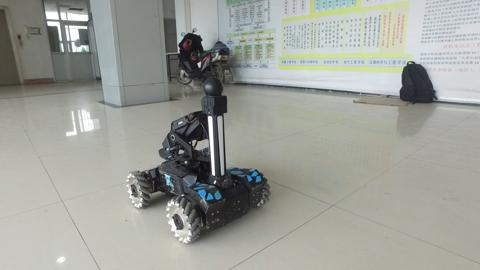bag: (392, 57, 443, 105)
chariot: (121, 73, 277, 244)
